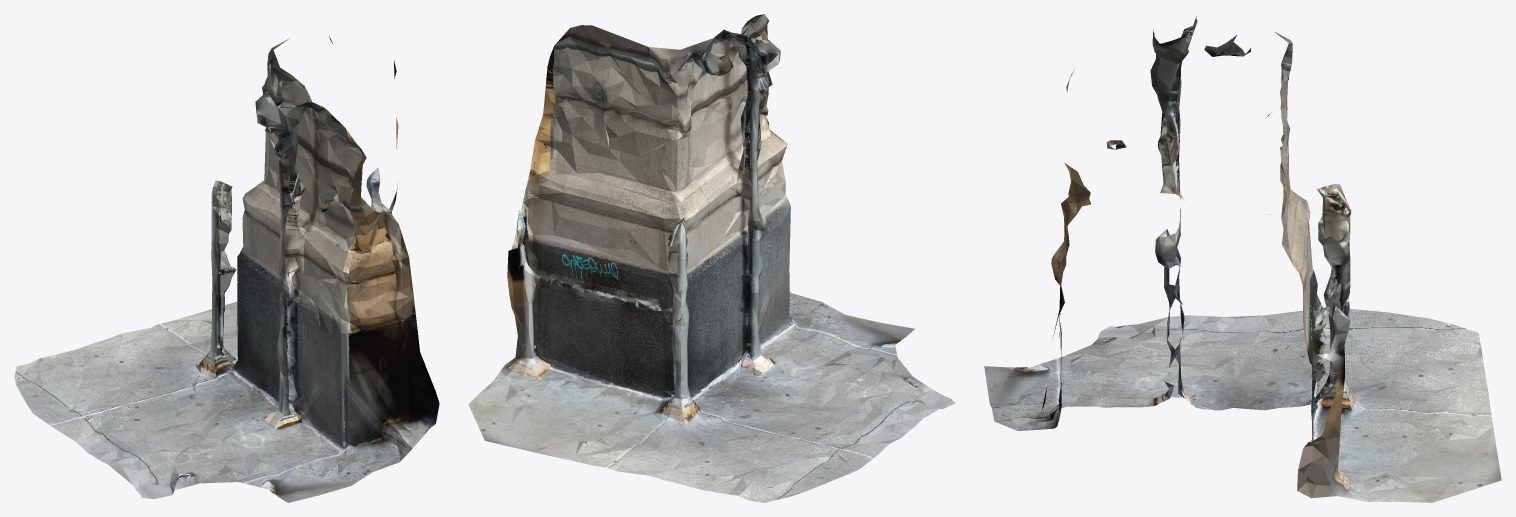
3 views of the same model, side by side, from view 1: azimuth 30°, elevation 25°; view 2: azimuth 150°, elevation 25°; view 3: azimuth 270°, elevation 25° (orthographic). The views are drawn at different scales.
Bounding box in the file's own units: 3.41 × 3.31 × 3.67.
Materials: 1 (1 with a texture image).
